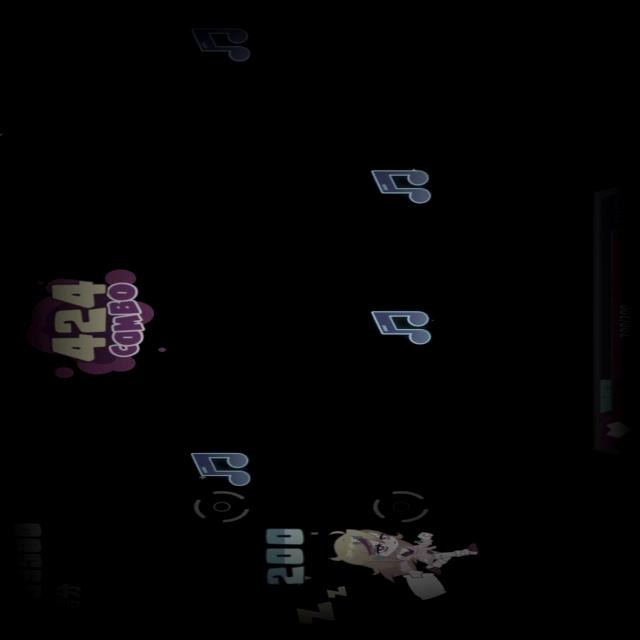Music note: (367, 306, 437, 344), (186, 24, 256, 60), (188, 449, 255, 485), (371, 166, 435, 202)
